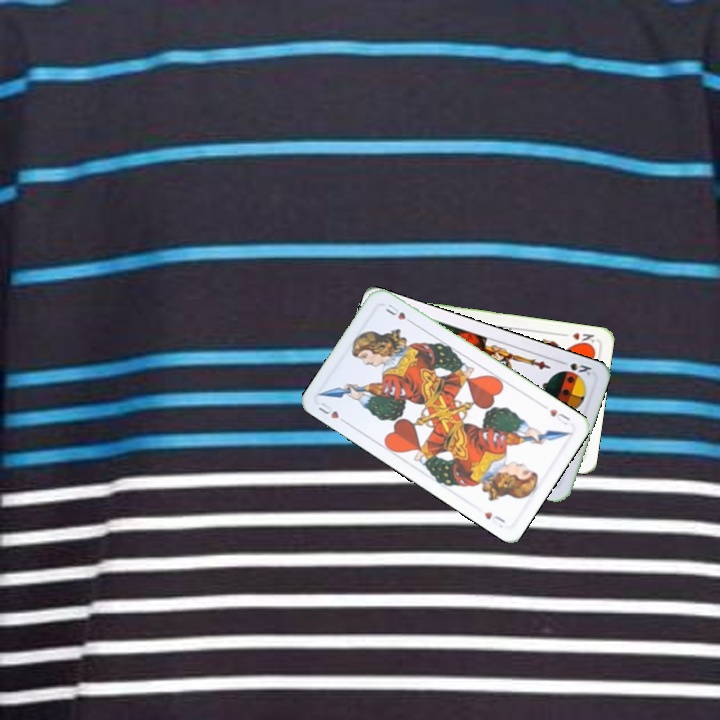HK: (558, 328, 597, 349)
HU: (314, 398, 350, 427), (545, 405, 573, 428)
SK: (555, 357, 594, 379)
